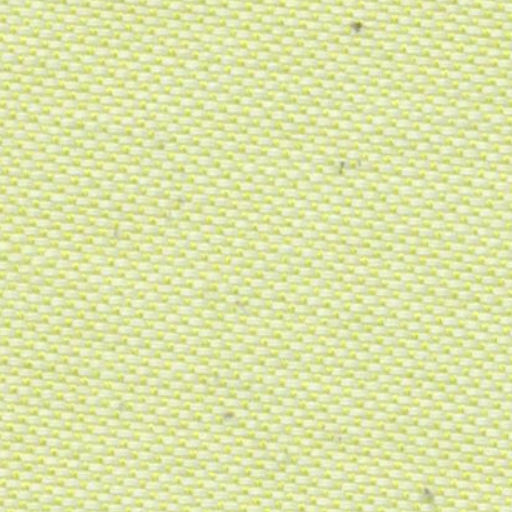WuZi: (318, 146, 364, 183), (333, 11, 376, 48), (405, 474, 452, 507), (208, 392, 246, 432)
